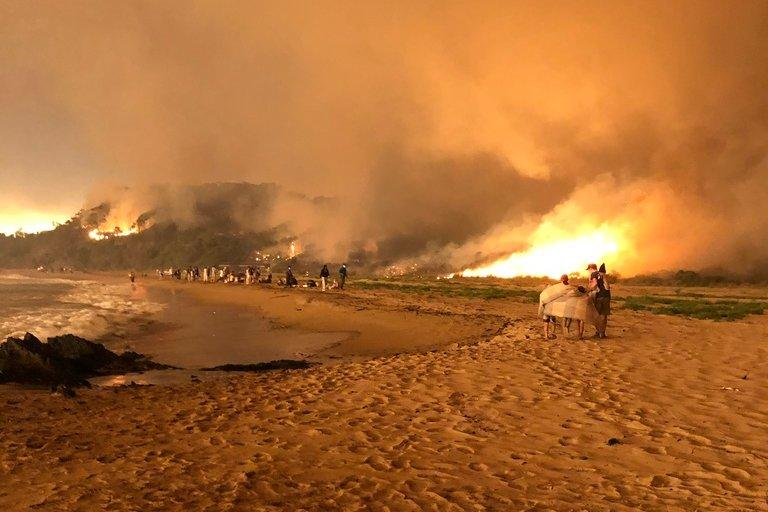fire: (439, 229, 622, 284), (116, 221, 141, 237), (87, 227, 106, 242), (284, 240, 299, 257)
